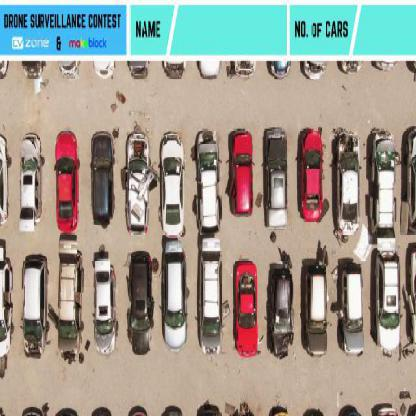car: (124, 134, 152, 236), (128, 254, 155, 356), (264, 129, 289, 231), (337, 130, 361, 236), (196, 130, 220, 234), (298, 130, 324, 225), (55, 133, 79, 231), (161, 134, 183, 238), (91, 133, 115, 227), (20, 136, 43, 230), (236, 262, 258, 357)
